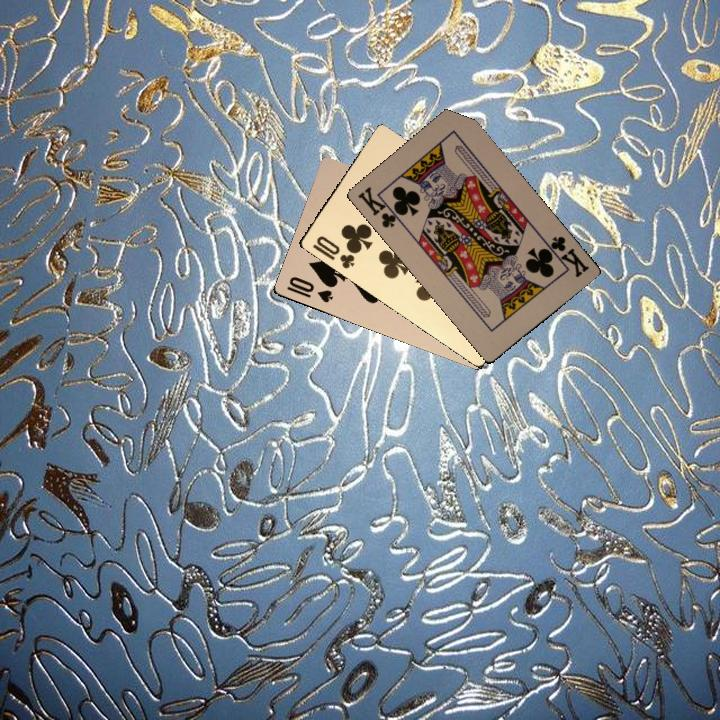10c: (308, 232, 359, 271)
10s: (283, 272, 336, 305)
Kc: (354, 182, 405, 231), (541, 232, 592, 280)
